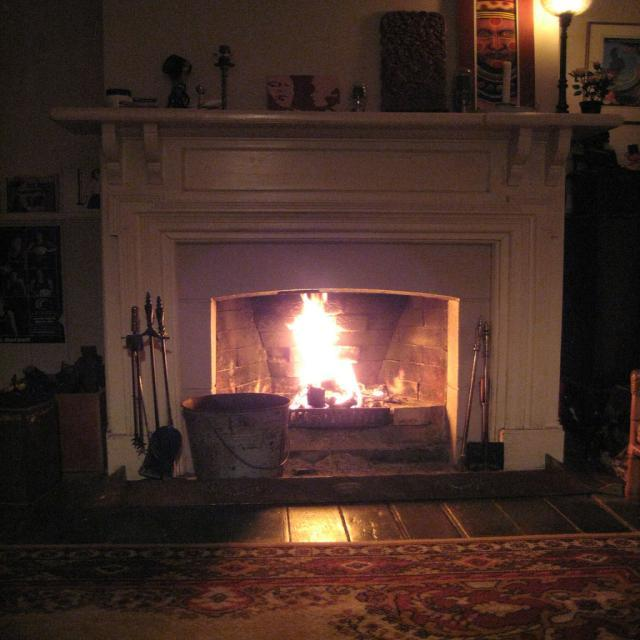Fire: (278, 308, 360, 384)
